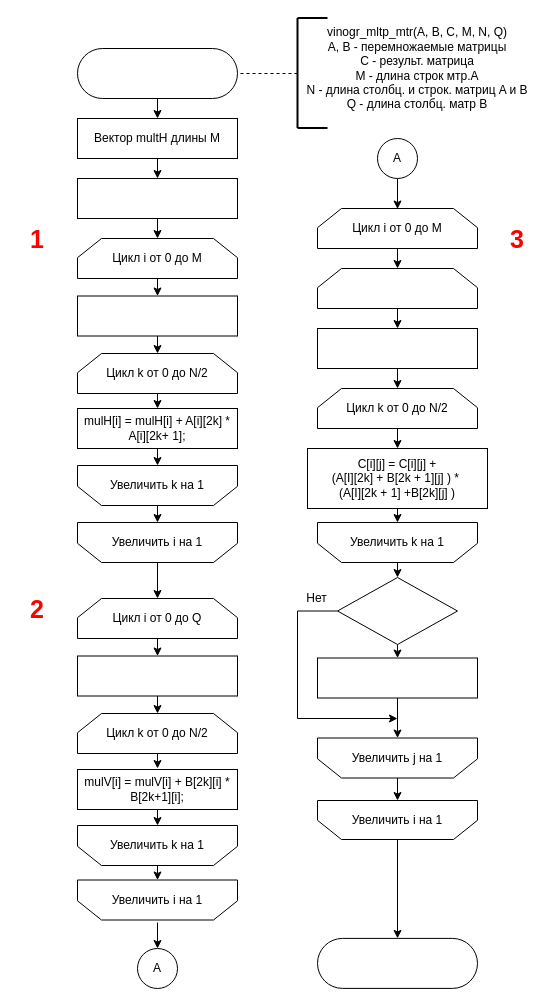
Some shapes in this 554 by 1006 pixel diagram are drawn without their labels. Here are the shapes that lost their labels. From the top down, the centre of each, then its label:
the point at 157,73: Начало
the point at 157,198: Вектор multV длины Q
the point at 397,288: Цикл j от 0 до Q
the point at 157,315: mulH[i] = 0;
the point at 397,348: C[i][j] = C[i][j] - mulH[i] - mulV[j]
the point at 397,610: N mod 2 = 1?
the point at 157,675: mulV[i] = 0;
the point at 397,677: C[i][j] = C[i][j] + A[I][N - 1] * B[N - 1][j]
the point at 397,962: Конец
